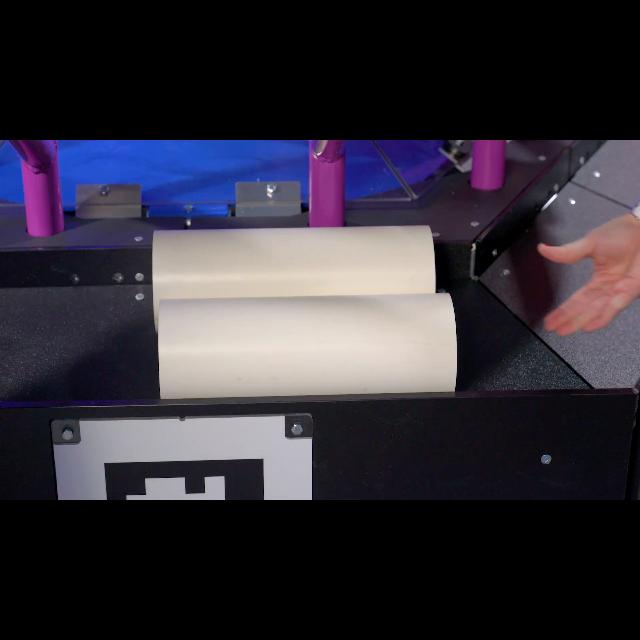CORAL: (158, 294, 458, 398), (152, 226, 436, 334)
